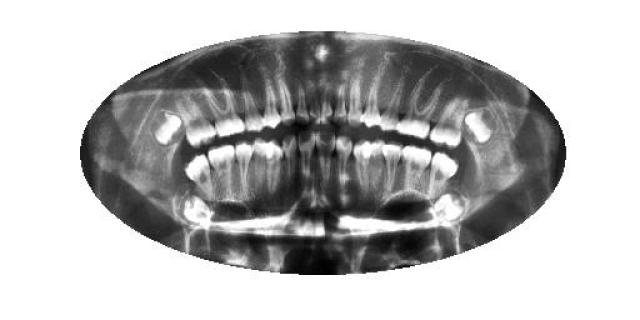Restorations: (146, 110, 184, 149), (462, 108, 498, 146)
